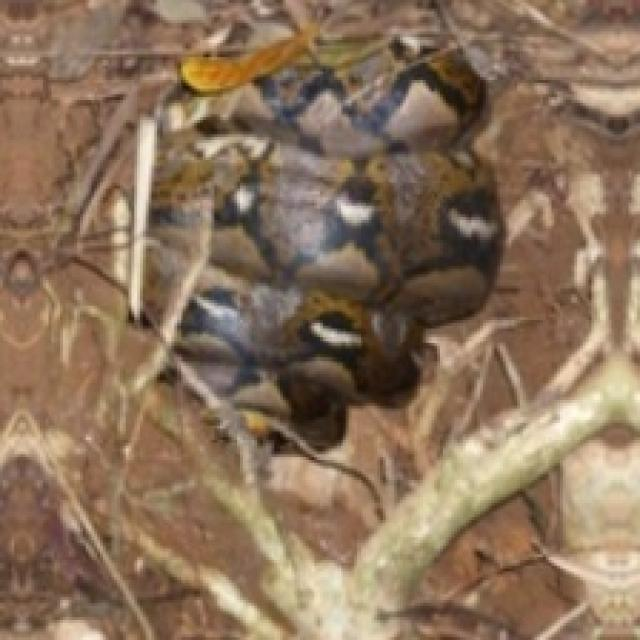reticulated python: (160, 26, 503, 449), (166, 29, 503, 449)
